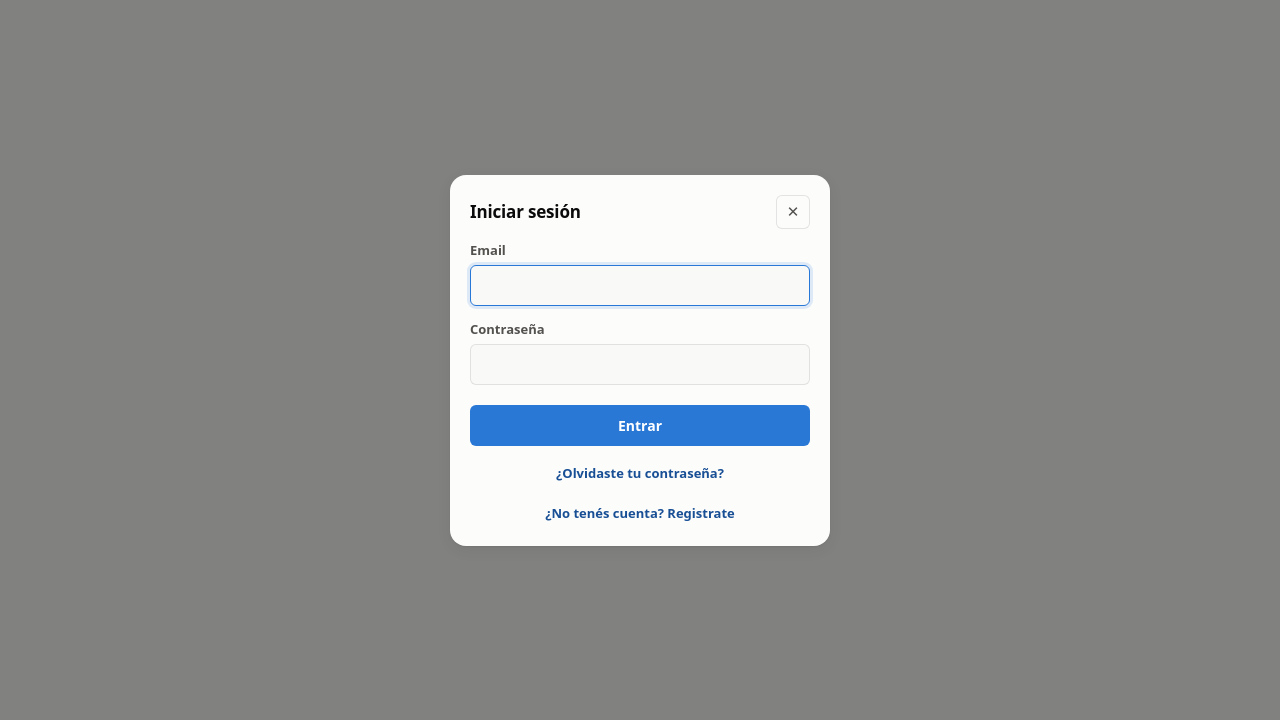
AuthModal › el flujo de recuperar contraseña pide el email y muestra el mensaje genérico
Click the button "¿Olvidaste tu contraseña?".
click(640, 472)  # box [552, 460, 728, 486]
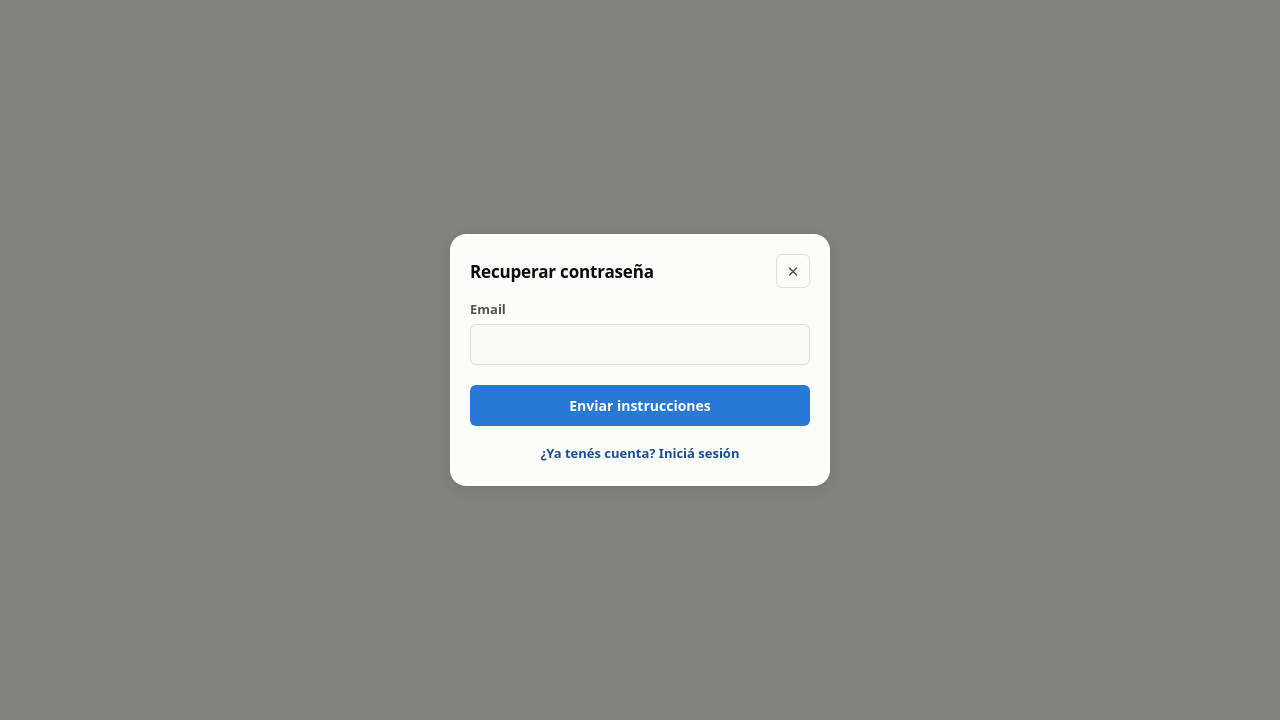
Expected: the heading "Recuperar contraseña" is shown, [470, 260, 654, 282]
Type "cualquiera@example.com" into the field labelled "Email".
click(640, 344); type("cualquiera@example.com")  # box [470, 324, 810, 365]
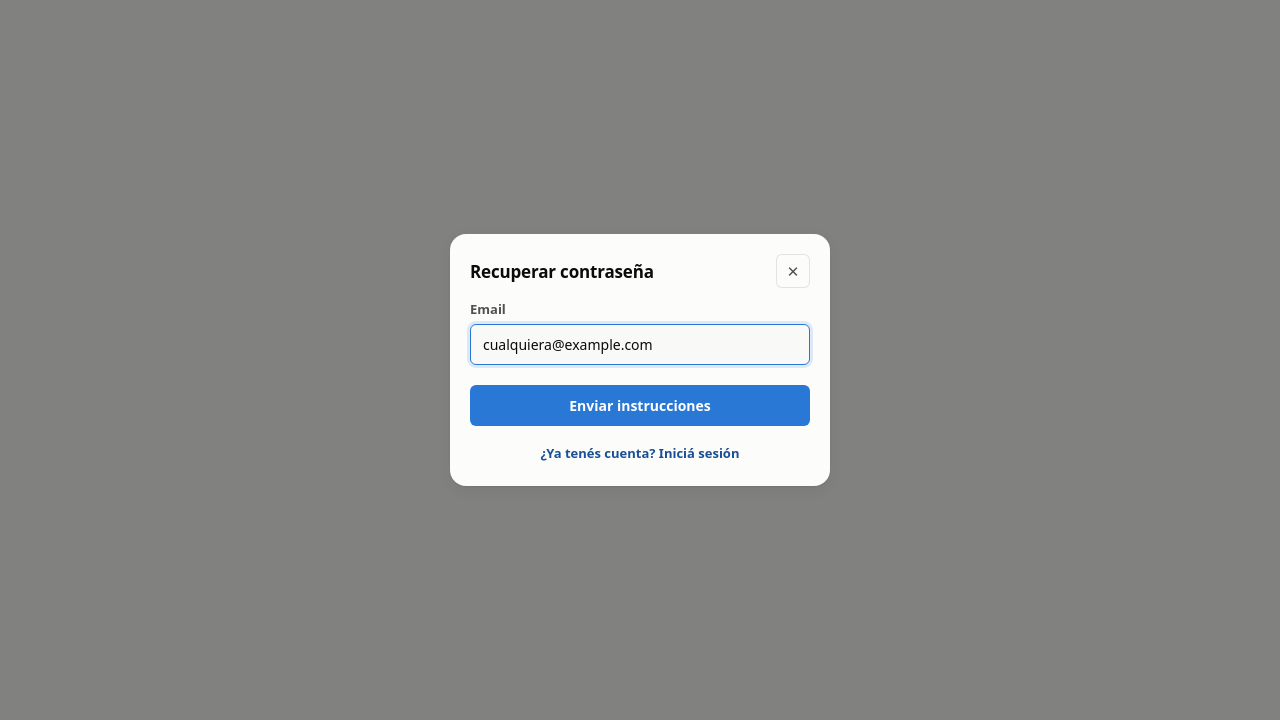
Click the button "Enviar instrucciones".
click(640, 406)  # box [470, 385, 810, 426]
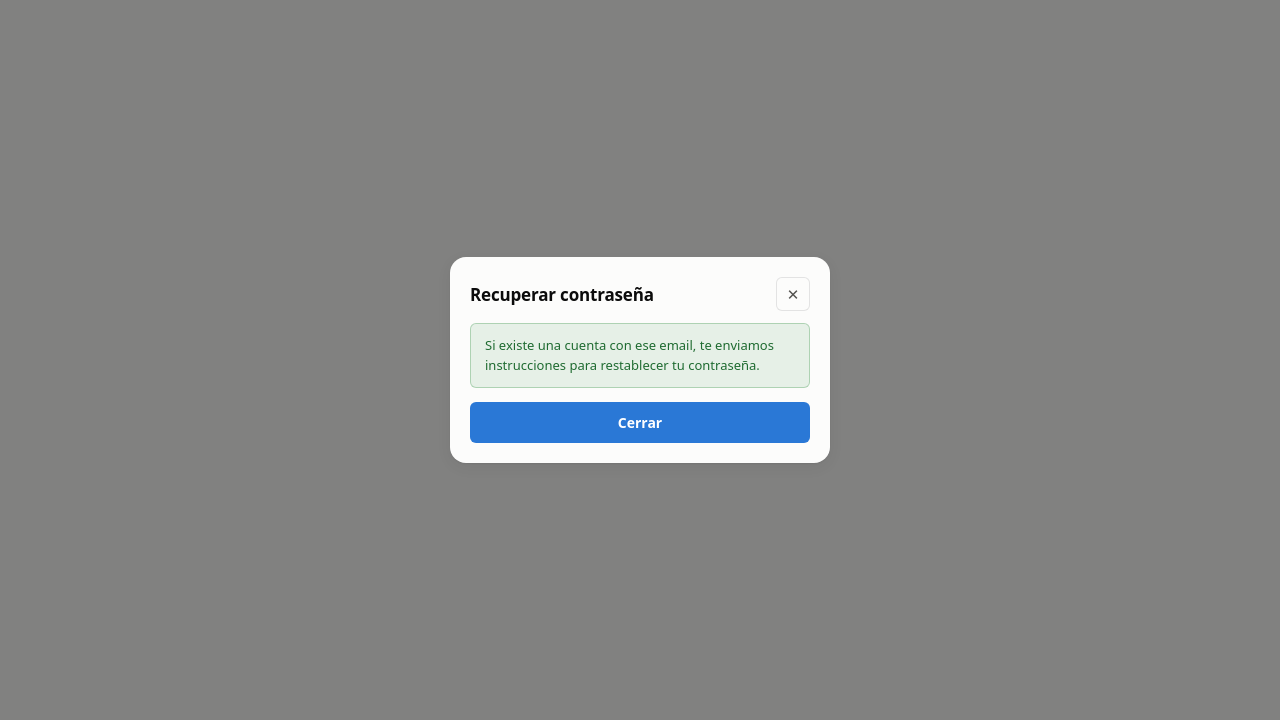
Expected: the text "Si existe una cuenta con ese email, te enviamos instrucciones para restablecer tu contraseña." is shown, [485, 336, 774, 374]
